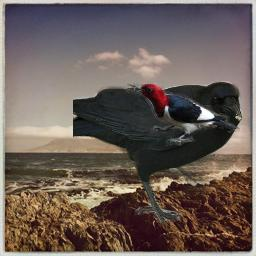Crow: (73, 81, 243, 223)
Woodpecker: (122, 80, 240, 146)
